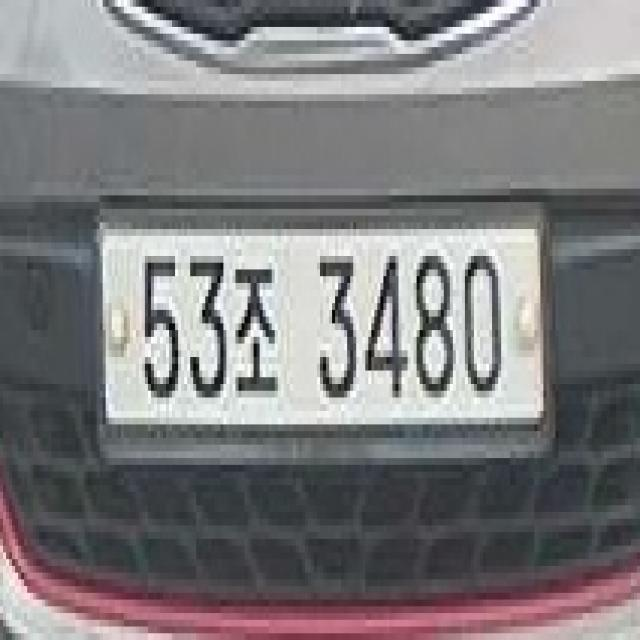0: (462, 249, 510, 431)
3: (311, 242, 365, 418), (181, 242, 230, 398)
5: (362, 243, 411, 431), (136, 229, 184, 404)
8: (410, 235, 459, 418)
jo: (223, 256, 284, 411)
license_plate: (90, 196, 562, 472)
